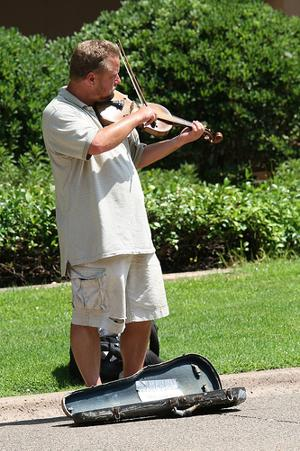person: (42, 40, 206, 390)
